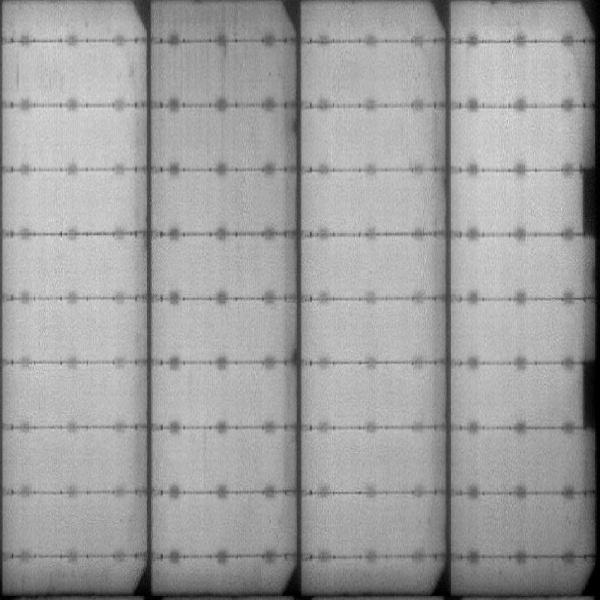black_border: (577, 357, 599, 436), (578, 160, 597, 243)
